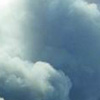smoke: (5, 4, 77, 96)
